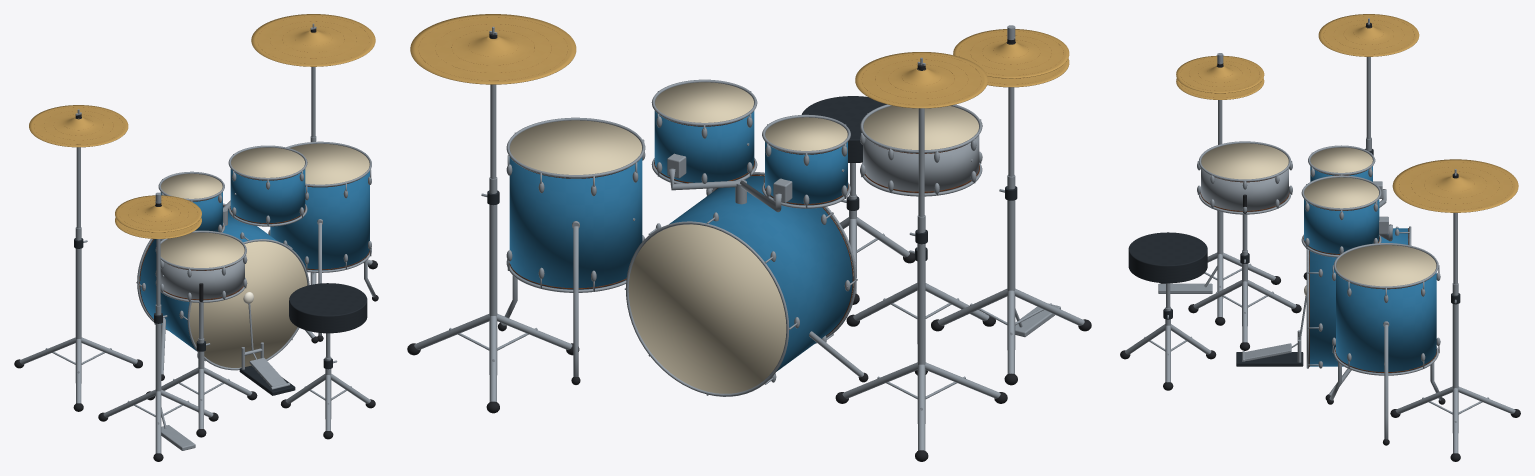
Rendered from innerscene-drum-kit.glb.
3 views of the same model, side by side, from view 1: azimuth 30°, elevation 25°; view 2: azimuth 150°, elevation 25°; view 3: azimuth 270°, elevation 25° (orthographic). The views are drawn at different scales.
Visible parts, largest first — view 1: 22 inch bass drum lower membrane, 16 inch floor tom finite wood shell, 20 inch ride thin bronze cymbal, Throne cushion, 16 inch crash thin bronze cymbal, 12 inch mounted tom finite wood shell, 22 inch bass drum finite wood shell, 14 inch upper hi-hat thin bronze cymbal, 14 inch snare upper membrane, 14 inch snare finite wood shell, 16 inch floor tom upper membrane, 12 inch mounted tom upper membrane (+15 smaller); view 2: 22 inch bass drum upper membrane, 16 inch floor tom finite wood shell, 22 inch bass drum finite wood shell, 20 inch ride thin bronze cymbal, 16 inch crash thin bronze cymbal, 16 inch floor tom upper membrane, 12 inch mounted tom finite wood shell, 14 inch upper hi-hat thin bronze cymbal, 14 inch snare finite wood shell, 14 inch snare upper membrane, 10 inch mounted tom finite wood shell, 12 inch mounted tom upper membrane (+15 smaller); view 3: 16 inch floor tom finite wood shell, 20 inch ride thin bronze cymbal, Throne cushion, 16 inch crash thin bronze cymbal, 16 inch floor tom upper membrane, 22 inch bass drum finite wood shell, 12 inch mounted tom finite wood shell, 14 inch upper hi-hat thin bronze cymbal, 14 inch snare upper membrane, 14 inch snare finite wood shell, 12 inch mounted tom upper membrane, 10 inch mounted tom upper membrane (+11 smaller).
Part boxes in pixels (x1,y1,x2,y2): 22 inch bass drum lower membrane: (189, 241, 307, 367); 16 inch floor tom finite wood shell: (270, 171, 369, 270); 20 inch ride thin bronze cymbal: (251, 14, 375, 66); Throne cushion: (289, 283, 367, 333); 16 inch crash thin bronze cymbal: (29, 105, 128, 147); 12 inch mounted tom finite wood shell: (230, 169, 305, 224); 22 inch bass drum finite wood shell: (139, 206, 276, 350); 14 inch upper hi-hat thin bronze cymbal: (115, 195, 201, 232); 14 inch snare upper membrane: (160, 232, 244, 267); 14 inch snare finite wood shell: (160, 259, 244, 300); 16 inch floor tom upper membrane: (290, 143, 369, 184); 12 inch mounted tom upper membrane: (231, 147, 304, 177); 22 inch bass drum upper membrane: (628, 224, 786, 393); 16 inch floor tom finite wood shell: (509, 157, 642, 289); 22 inch bass drum finite wood shell: (669, 176, 853, 371); 20 inch ride thin bronze cymbal: (410, 14, 576, 84); 16 inch crash thin bronze cymbal: (855, 52, 987, 108); 16 inch floor tom upper membrane: (510, 120, 641, 174); 12 inch mounted tom finite wood shell: (654, 110, 754, 183); 14 inch upper hi-hat thin bronze cymbal: (953, 29, 1069, 78); 14 inch snare finite wood shell: (863, 135, 979, 193); 14 inch snare upper membrane: (863, 106, 978, 149); 10 inch mounted tom finite wood shell: (765, 142, 847, 205); 12 inch mounted tom upper membrane: (655, 82, 753, 122); 16 inch floor tom finite wood shell: (1336, 272, 1436, 373); 20 inch ride thin bronze cymbal: (1392, 159, 1518, 212); Throne cushion: (1128, 232, 1207, 283); 16 inch crash thin bronze cymbal: (1318, 14, 1419, 56); 16 inch floor tom upper membrane: (1336, 245, 1436, 286); 22 inch bass drum finite wood shell: (1309, 228, 1408, 366); 12 inch mounted tom finite wood shell: (1304, 199, 1379, 254); 14 inch upper hi-hat thin bronze cymbal: (1176, 55, 1264, 93); 14 inch snare upper membrane: (1201, 143, 1288, 179); 14 inch snare finite wood shell: (1201, 168, 1288, 211); 12 inch mounted tom upper membrane: (1304, 177, 1378, 208); 10 inch mounted tom upper membrane: (1310, 147, 1372, 172).
Bounding box in the file's own units: 1.81 × 1.24 × 1.62.
Materials: 9 (9 with a texture image).
